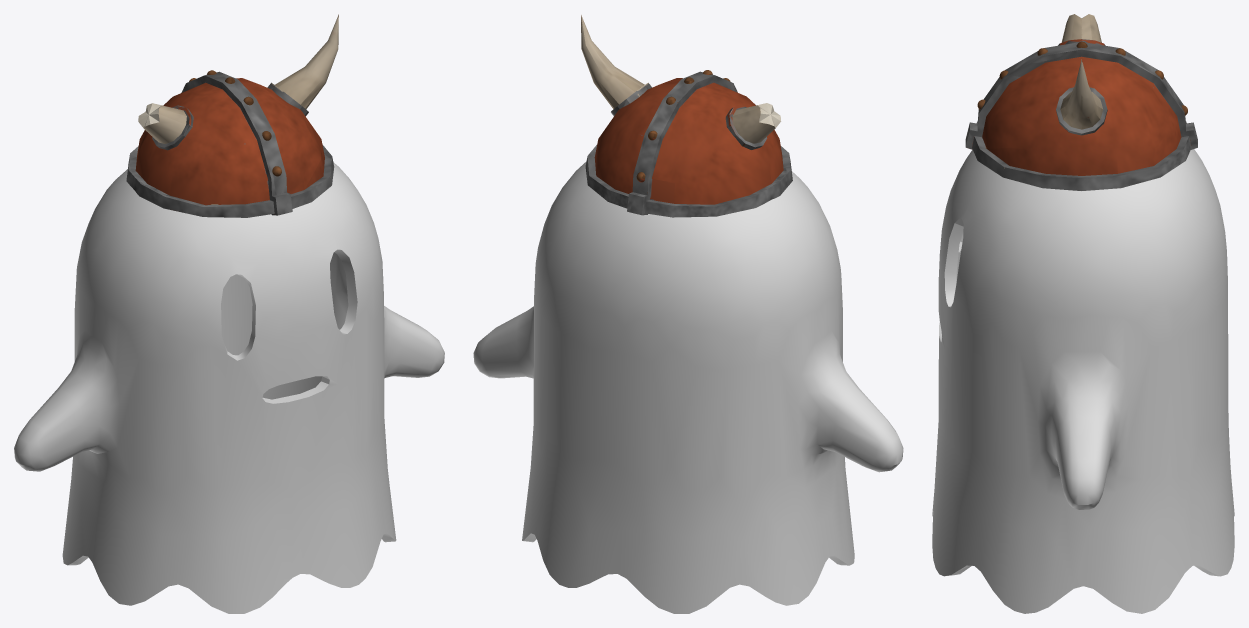
File: fantasma_personagem.fbx
3 views of the same model, side by side, from view 1: azimuth 30°, elevation 25°; view 2: azimuth 150°, elevation 25°; view 3: azimuth 270°, elevation 25° (orthographic). The views are drawn at different scales.
Parts seen in each view (by area): view 1: Cube, Roundcube.001; view 2: Cube, Roundcube.001; view 3: Cube, Roundcube.001.
Part boxes in pixels (box(x1,y1,x2,y2)): Cube: box(14, 162, 444, 613); Roundcube.001: box(126, 14, 338, 217); Cube: box(473, 162, 903, 613); Roundcube.001: box(581, 15, 792, 217); Cube: box(932, 149, 1234, 613); Roundcube.001: box(965, 14, 1197, 190).
Bounding box in the file's own units: 260 × 299 × 152.
1 material, 1 textured.
